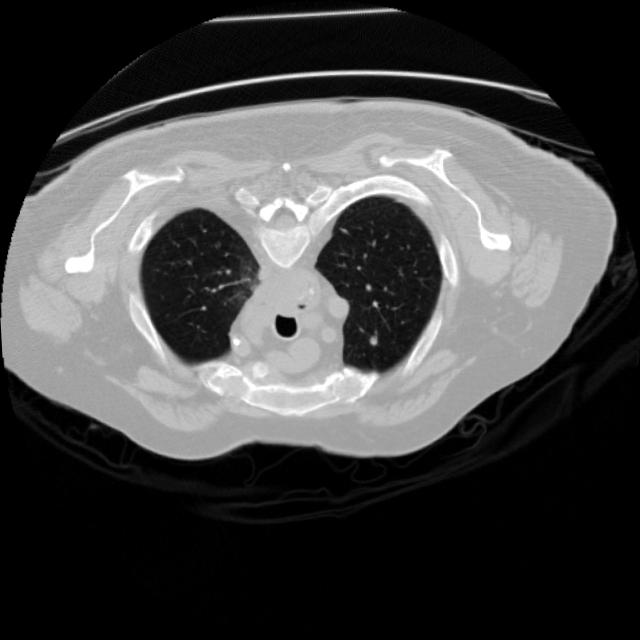nodule: (358, 328, 384, 354)
